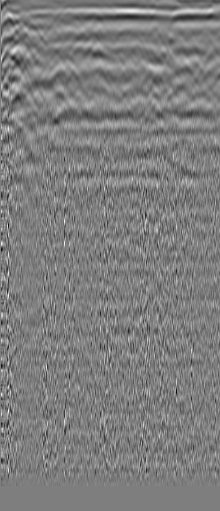오수: (19, 21, 49, 47)
우수: (168, 62, 192, 82)
